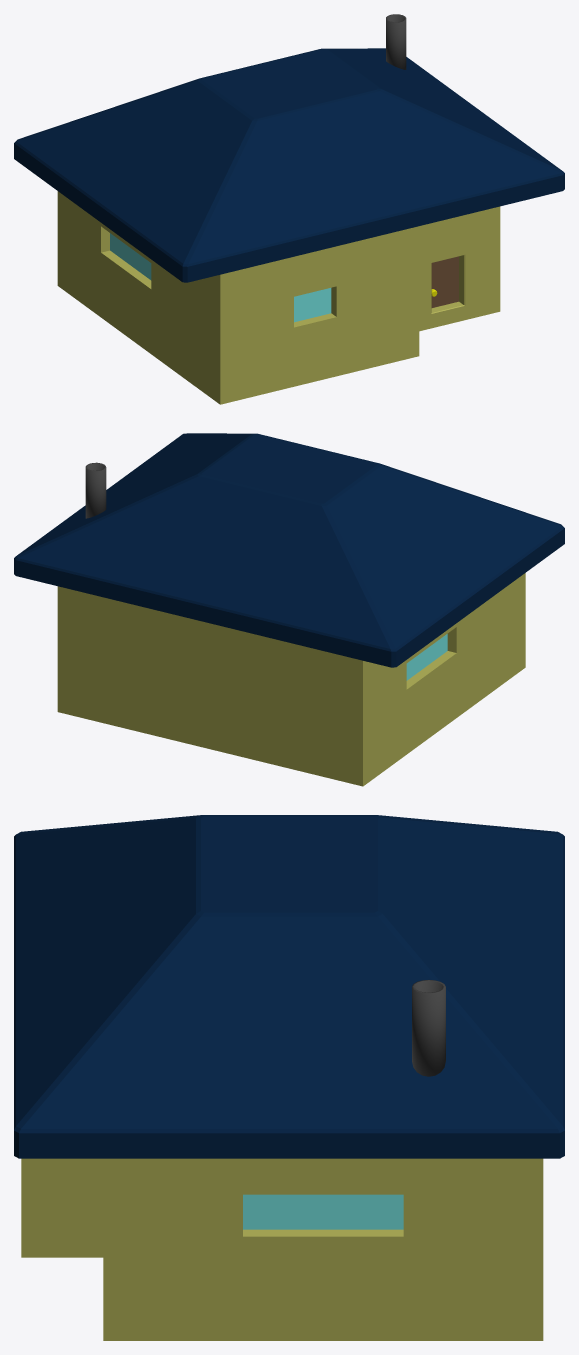
Rendered from edificio_15.fbx.
3 renders of one model, top to bottom at view 1: azimuth 30°, elevation 25°; view 2: azimuth 150°, elevation 25°; view 3: azimuth 270°, elevation 25°, orthographic. The views are drawn at different scales.
Parts seen in each view (by area): view 1: Cube.004; view 2: Cube.004; view 3: Cube.004.
Part boxes in pixels (left/top/right/bottom): Cube.004: left=14, top=14, right=564, bottom=404; Cube.004: left=14, top=433, right=564, bottom=786; Cube.004: left=14, top=815, right=564, bottom=1340.
Bounding box in the file's own units: 3600 × 2000 × 2800.
